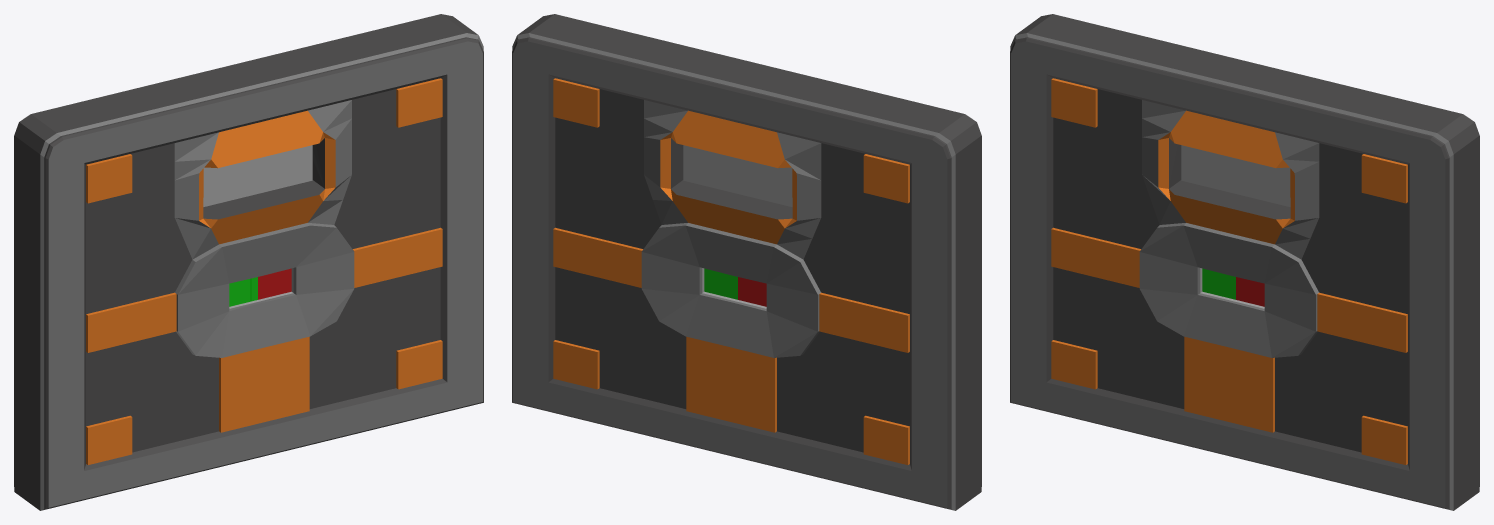
The model's file is DoorCompleteFBX.fbx.
The picture shows the model from 3 angles, left to right: view 1: azimuth 30°, elevation 25°; view 2: azimuth 150°, elevation 25°; view 3: azimuth 330°, elevation 25°; orthographic projection.
Visible parts, largest first — view 1: pCube1; view 2: pCube1; view 3: pCube1.
Boxes of the visible parts, x1=… form: pCube1: x1=14, y1=14, x2=483, y2=510; pCube1: x1=512, y1=14, x2=981, y2=510; pCube1: x1=1010, y1=14, x2=1479, y2=510.
Bounding box in the file's own units: 8.88 × 7.16 × 1.37.
